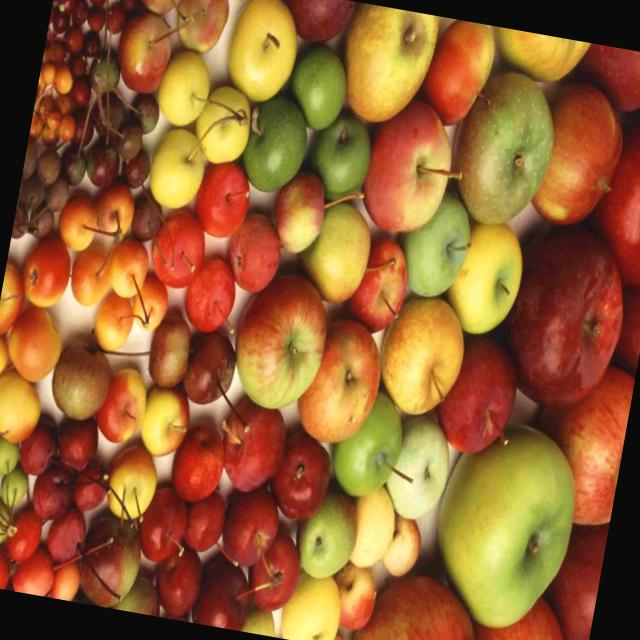apple: (416, 414, 588, 640), (496, 230, 630, 408), (356, 86, 460, 242), (228, 270, 334, 422)
